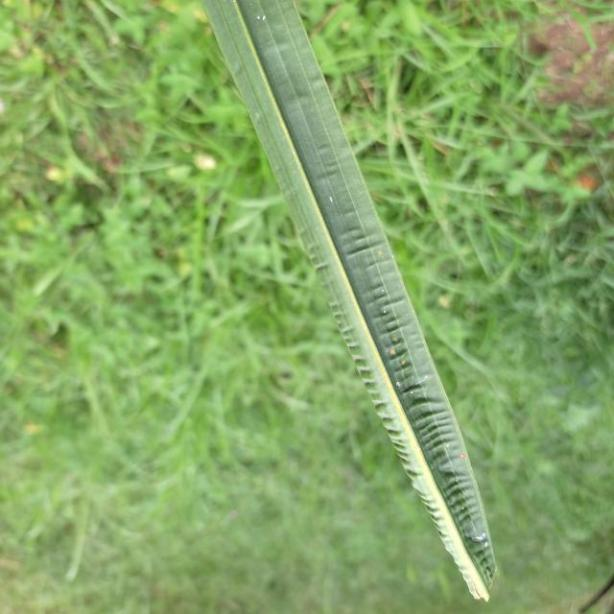Boron: (208, 0, 499, 600)
